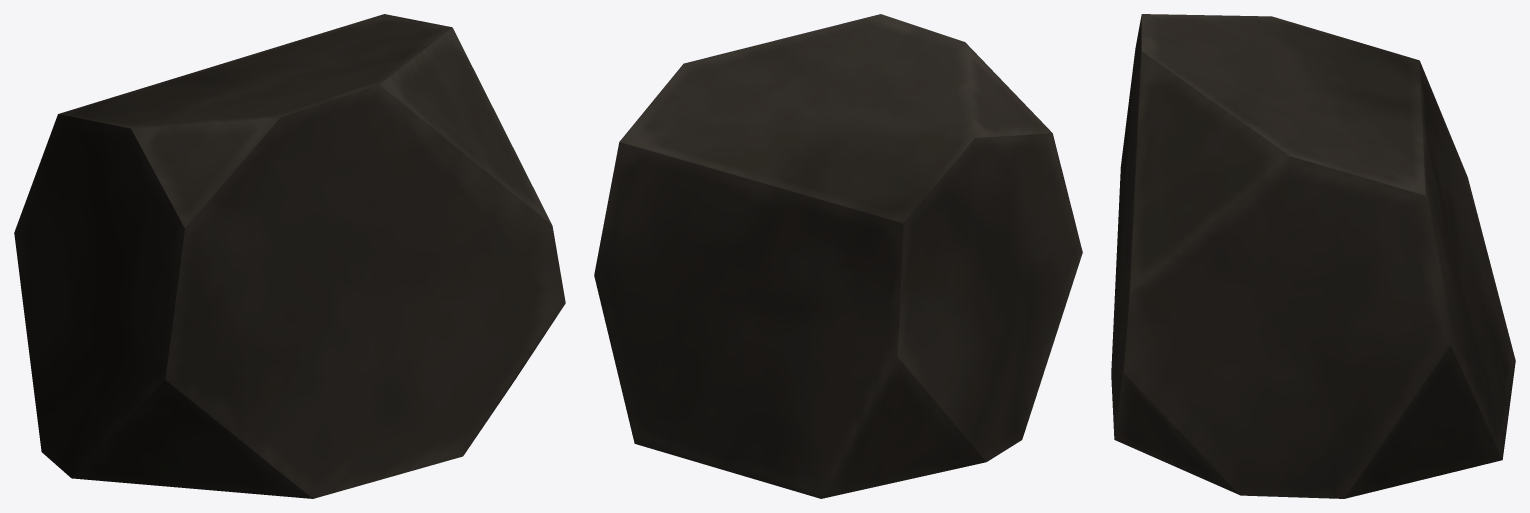
Rendered from Stone7.FBX.
3 renders of one model, left to right at view 1: azimuth 30°, elevation 25°; view 2: azimuth 150°, elevation 25°; view 3: azimuth 270°, elevation 25°, orthographic. The views are drawn at different scales.
Parts seen in each view (by area): view 1: Stone7; view 2: Stone7; view 3: Stone7.
Part boxes in pixels (x1,y1,x2,y2): Stone7: (14,14,565,498); Stone7: (594,14,1082,498); Stone7: (1111,14,1515,498).
Size of the model in its own units: 3.61 by 3.15 by 3.14.
